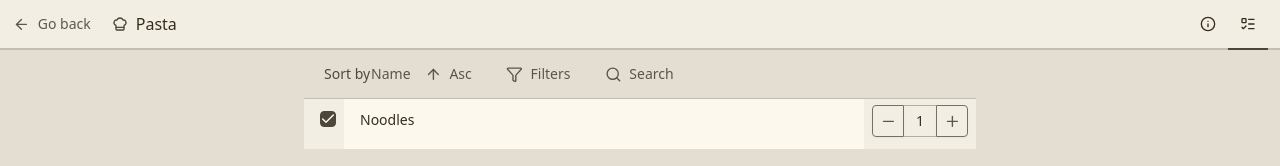
Test: Recipe Detail - Items Tab › user sees spinner on plus button while mutation is pending (recipe-assignment mode)
Click the button named "Increase quantity of Noodles" at {"x": 952, "y": 121}, box [936,105,968,137]
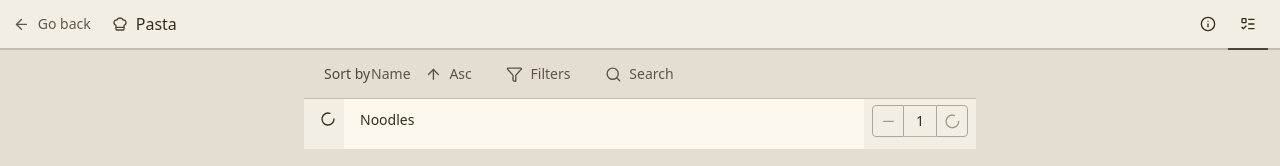
Now the 2nd icon with class "animate-spin" is shown, box [944,113,960,129]
